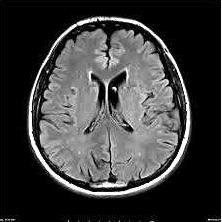Normal_Brain: (1, 1, 199, 222)
